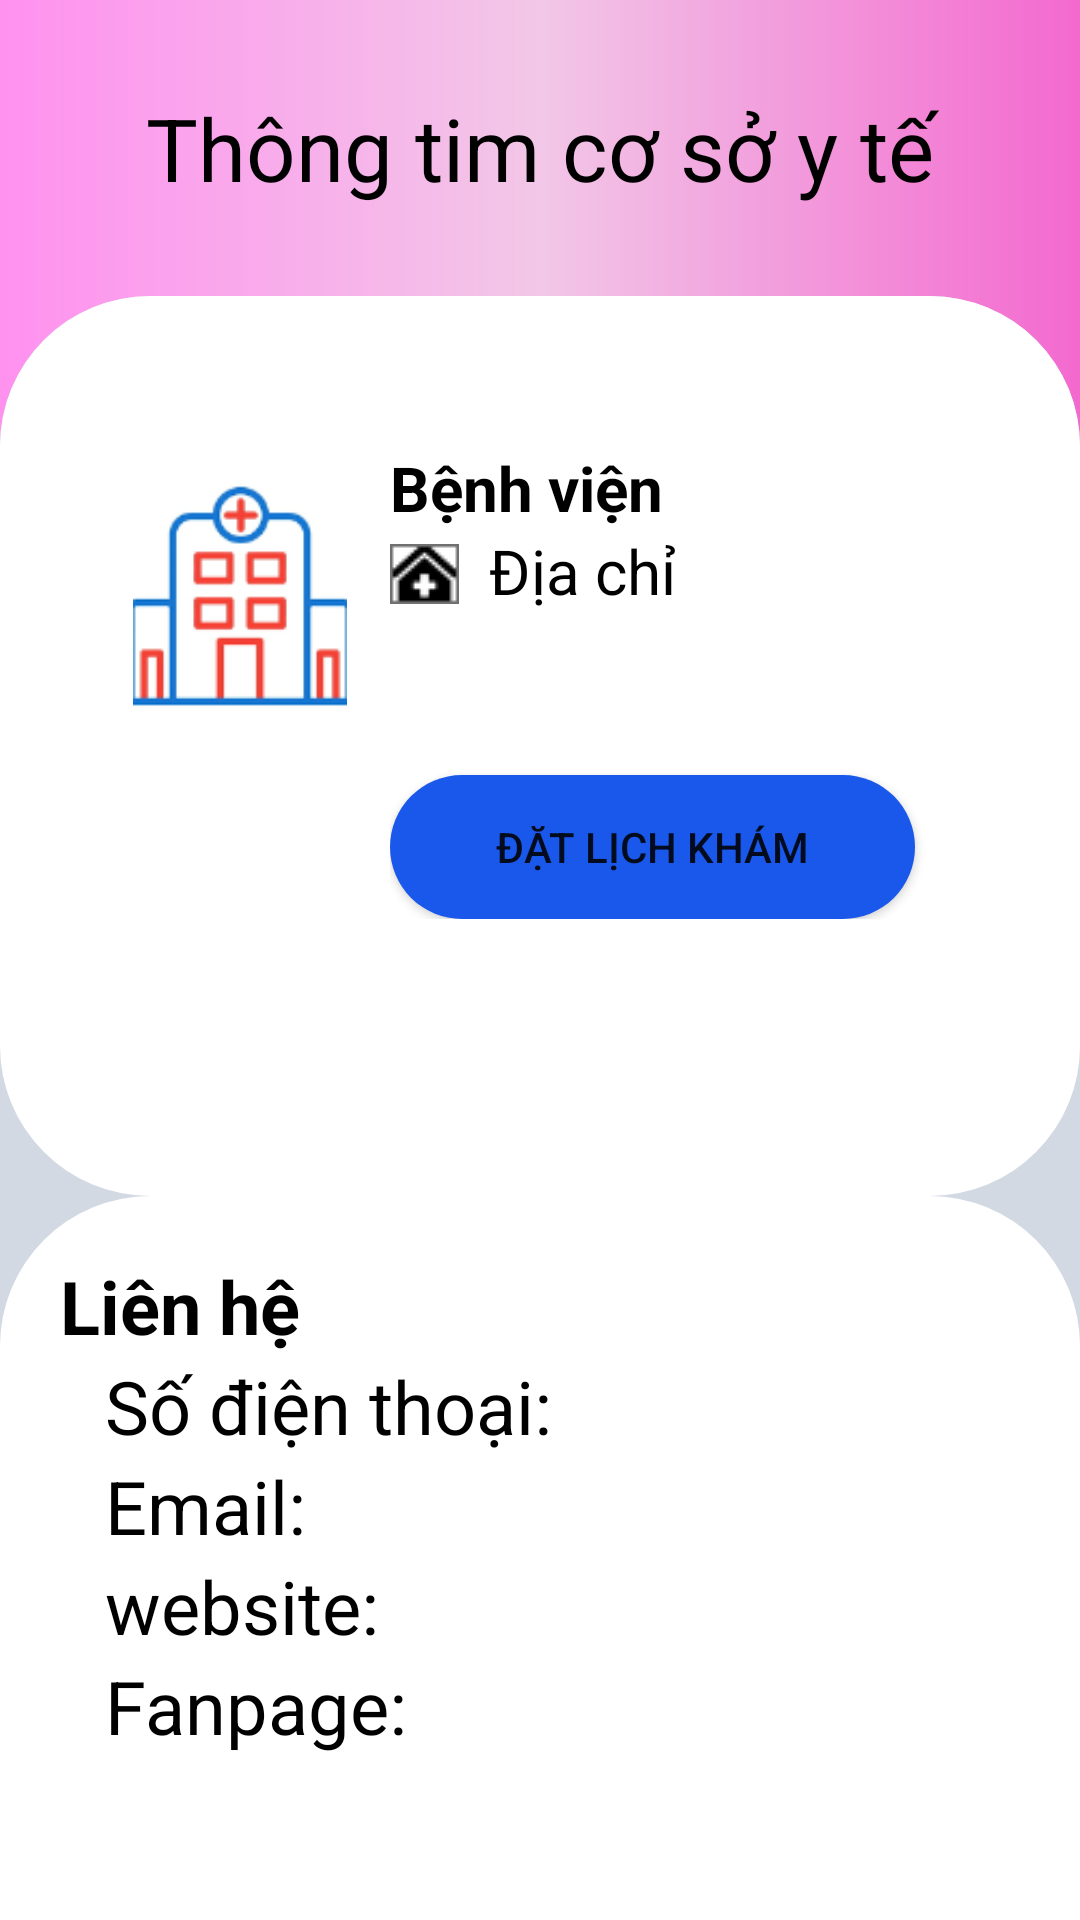

Where icons sit on this 1080x1920 app screen, as (x1, y1, x2, y2):
benhvien: (133, 486, 347, 706)
